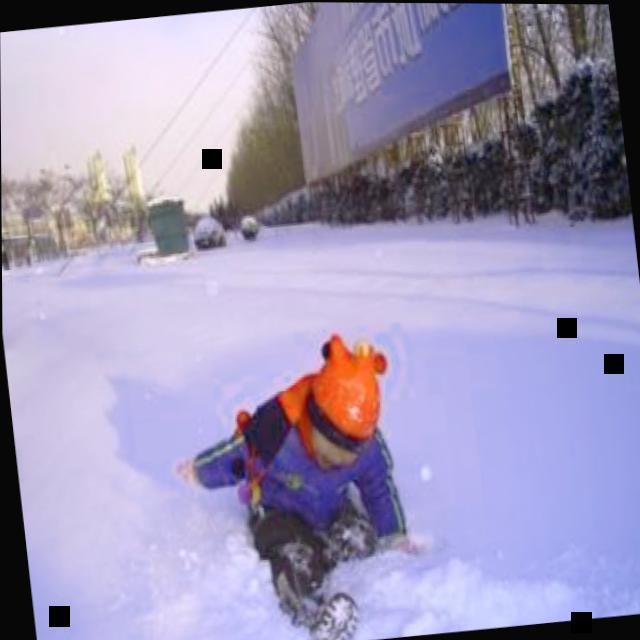Fall-Detected: (153, 302, 444, 640)
